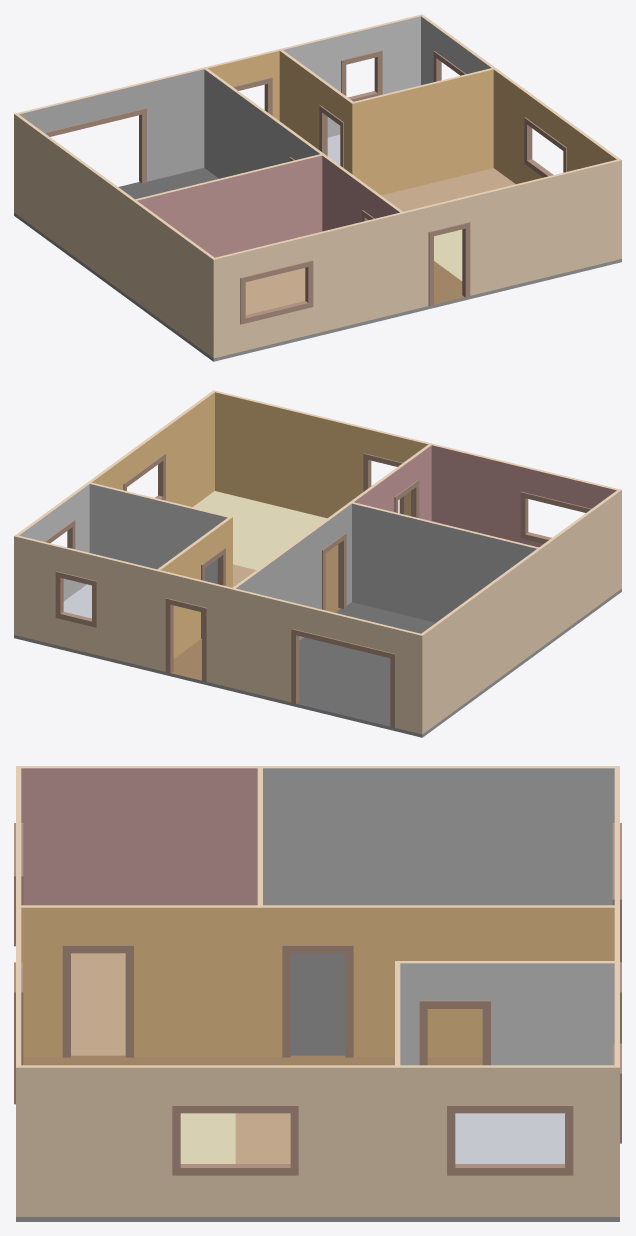
The model's file is House (1).fbx.
3 renders of one model, top to bottom at view 1: azimuth 30°, elevation 25°; view 2: azimuth 150°, elevation 25°; view 3: azimuth 270°, elevation 25°, orthographic. The views are drawn at different scales.
Visible parts, largest first — view 1: Paredes, Chao; view 2: Paredes, Chao; view 3: Paredes, Chao.
Boxes of the visible parts, box(x1,y1,x2,y2) form: Paredes: box(14, 14, 621, 358); Chao: box(14, 134, 621, 361); Paredes: box(14, 390, 621, 734); Chao: box(14, 491, 621, 737); Paredes: box(14, 766, 621, 1216); Chao: box(16, 953, 619, 1221).
Size of the model in its own units: 1304 by 310 by 1107.
